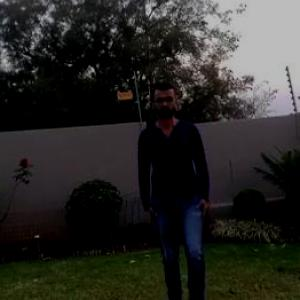follow: (147, 87, 210, 299)
